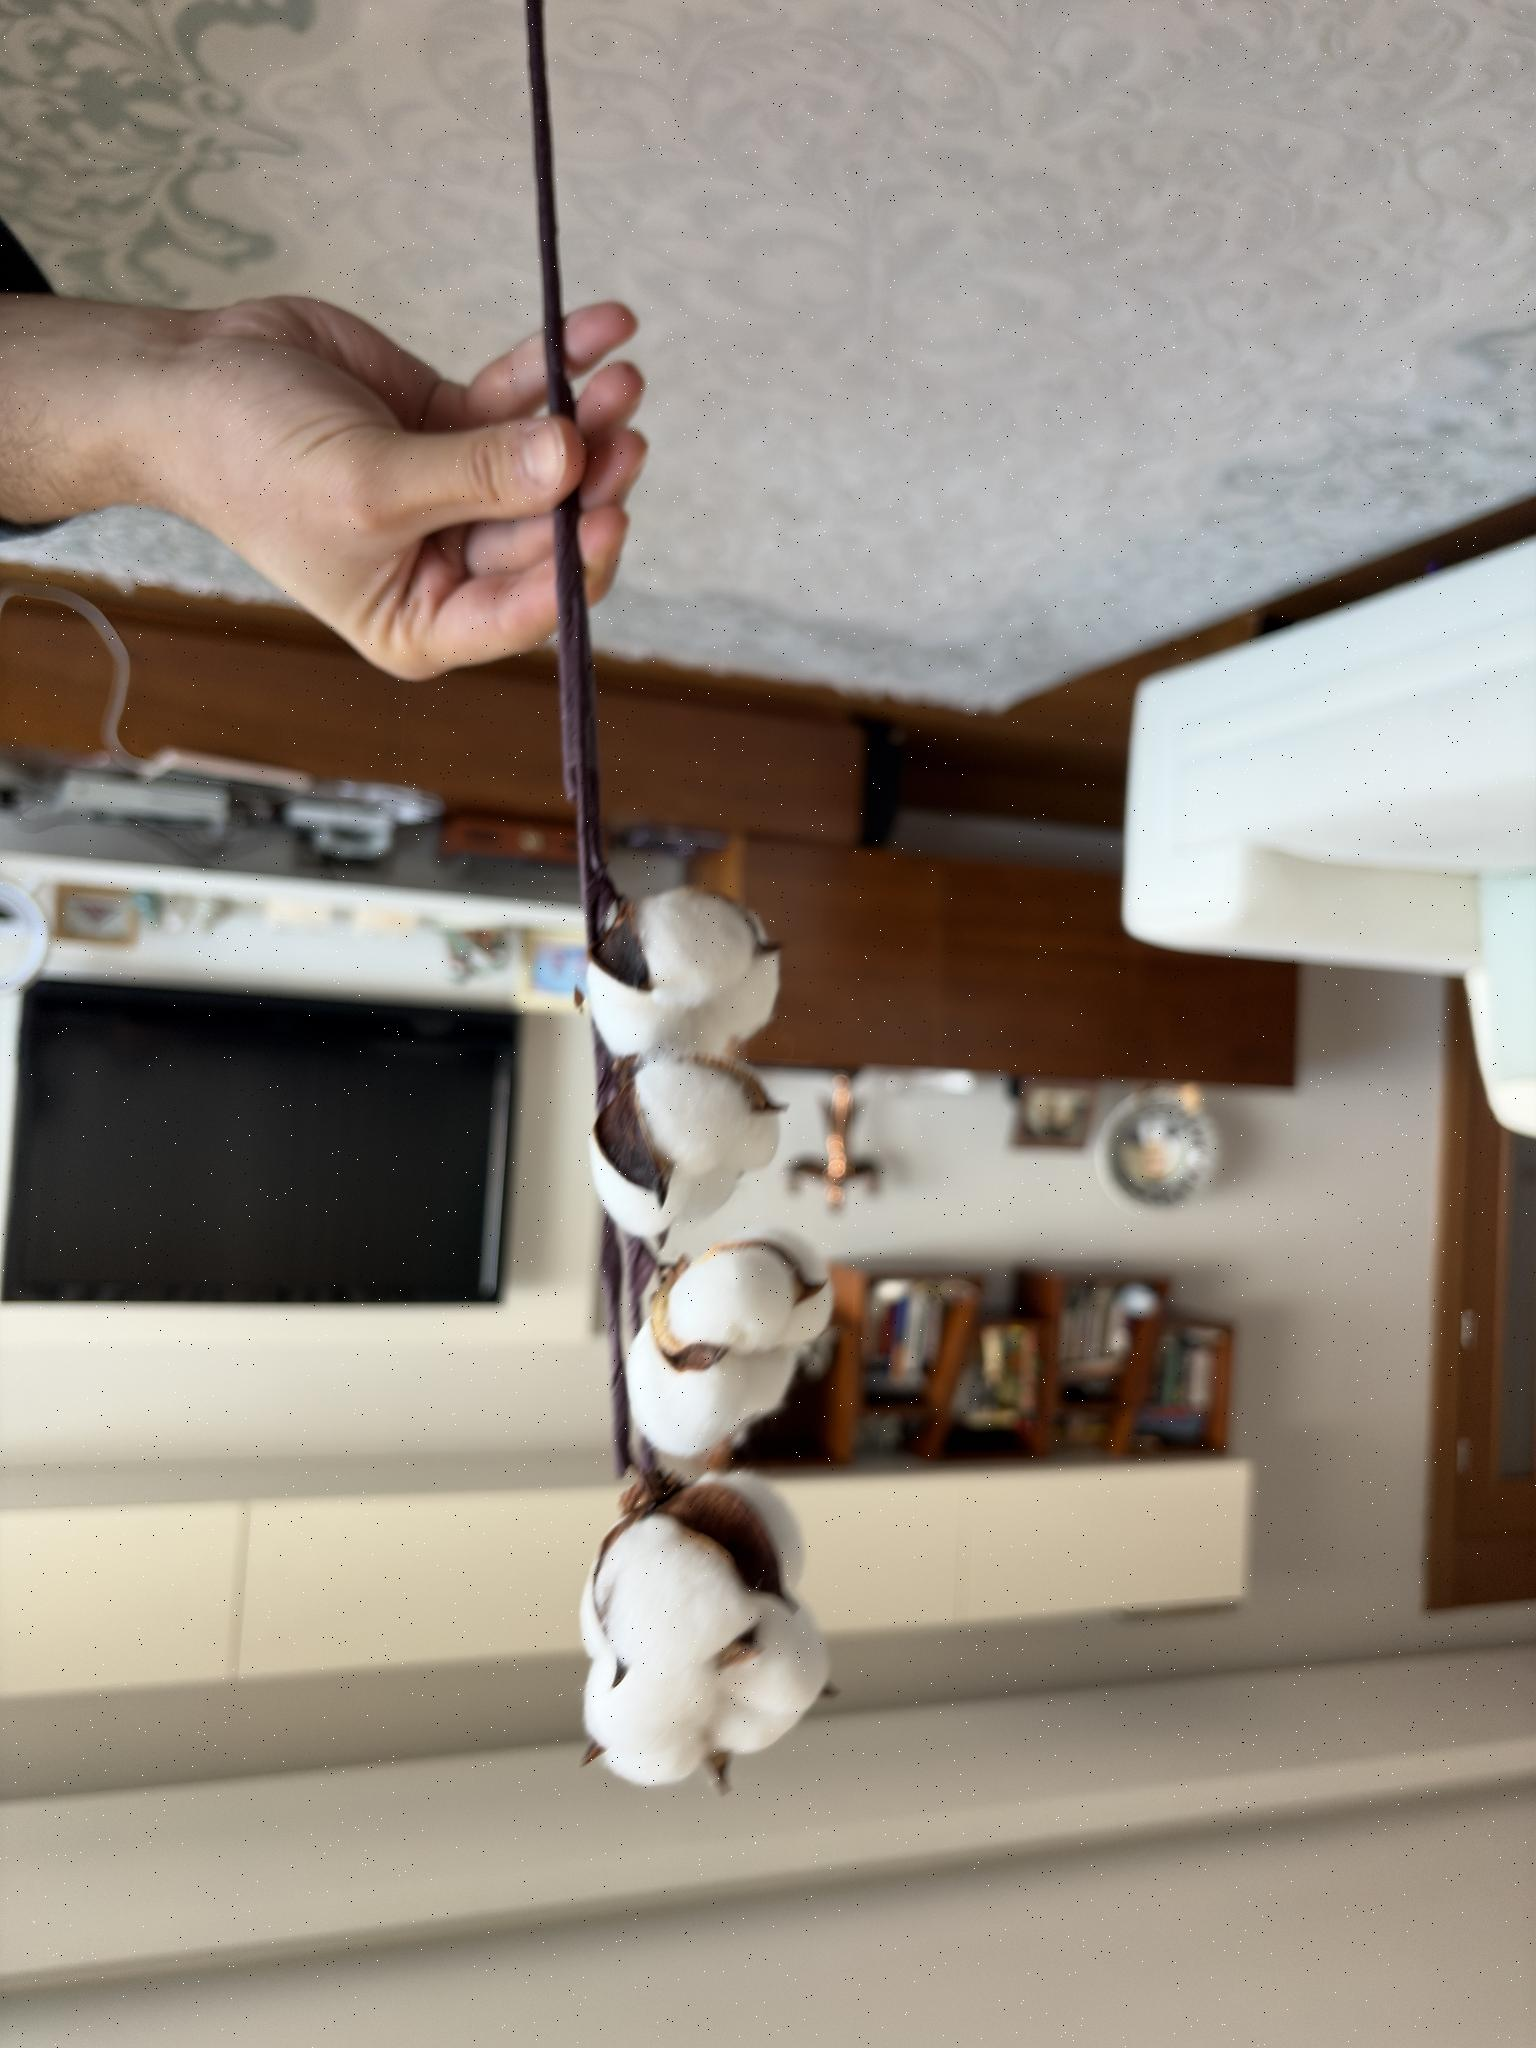cotton_boll: (592, 1509, 760, 1674), (629, 885, 758, 1009), (626, 1322, 739, 1458), (629, 1055, 757, 1171), (668, 1245, 797, 1351), (584, 1653, 713, 1755), (726, 1598, 829, 1717), (586, 951, 692, 1058), (591, 1127, 689, 1238), (724, 1474, 805, 1593), (715, 945, 781, 1048), (736, 1348, 799, 1430), (713, 1700, 807, 1755), (599, 1738, 705, 1785), (676, 1164, 747, 1222), (781, 1282, 834, 1351), (731, 1105, 779, 1171)
cotton_boll-cluster: (573, 1469, 836, 1793), (626, 1232, 839, 1466), (581, 877, 795, 1071), (586, 1042, 791, 1238)
